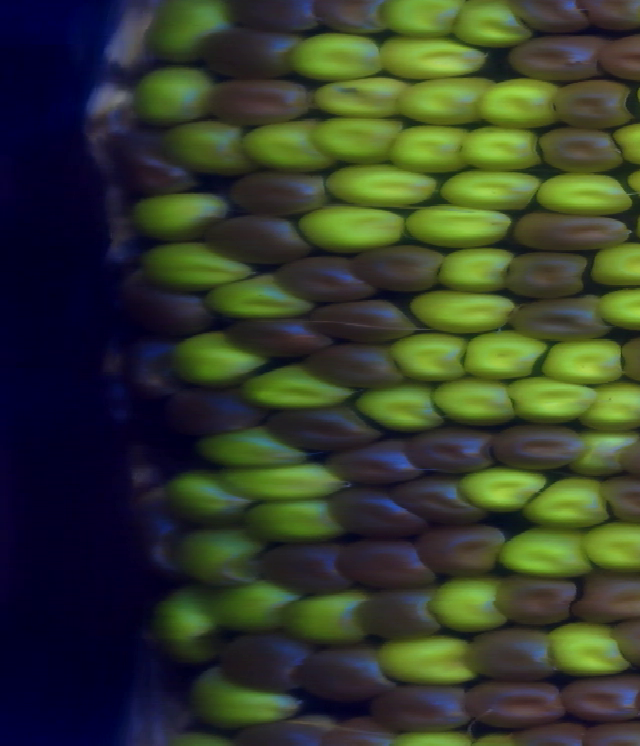fluorescent: (131, 54, 218, 129), (194, 670, 309, 726), (173, 326, 275, 386), (145, 1, 238, 65), (501, 526, 611, 580), (176, 528, 271, 585), (324, 161, 443, 206), (236, 364, 363, 406), (356, 380, 451, 436), (284, 593, 384, 646), (142, 589, 224, 653), (528, 470, 615, 530), (133, 191, 237, 241), (189, 271, 311, 313), (401, 72, 499, 124), (160, 115, 251, 171), (286, 26, 382, 79), (244, 120, 345, 170), (502, 375, 601, 425), (546, 622, 636, 676), (456, 466, 560, 512), (295, 204, 403, 248), (465, 331, 556, 383), (139, 241, 246, 285), (385, 327, 475, 379), (166, 468, 254, 521), (535, 170, 636, 216), (378, 637, 481, 682), (413, 288, 515, 333), (244, 495, 348, 539), (375, 36, 486, 76), (544, 339, 631, 390), (401, 206, 511, 246), (431, 577, 507, 634), (451, 1, 541, 49), (231, 460, 344, 498), (204, 581, 298, 626), (434, 377, 521, 425), (436, 171, 543, 210), (192, 429, 310, 464), (315, 115, 403, 161), (314, 76, 416, 115), (566, 425, 640, 476), (485, 79, 560, 129), (386, 124, 471, 168), (378, 1, 474, 39), (462, 128, 549, 169), (440, 247, 521, 289), (585, 379, 640, 431), (585, 522, 640, 567), (589, 244, 640, 292), (602, 280, 640, 337)
nonfluorescent: (197, 213, 328, 263), (122, 268, 216, 336), (336, 534, 448, 588), (201, 25, 313, 78), (297, 640, 394, 701), (461, 675, 570, 728), (273, 251, 378, 305), (213, 633, 311, 688), (371, 679, 474, 731), (500, 36, 609, 84), (468, 628, 562, 683), (268, 404, 380, 450), (258, 536, 355, 589), (386, 480, 491, 528), (110, 132, 198, 188), (162, 386, 266, 433), (227, 168, 338, 212), (332, 484, 423, 537), (418, 525, 507, 578), (307, 343, 411, 386), (492, 573, 578, 624), (307, 297, 413, 338), (208, 81, 319, 120), (539, 125, 628, 173), (515, 213, 627, 251), (354, 248, 453, 290), (331, 441, 421, 486), (493, 427, 584, 471), (555, 673, 640, 719), (357, 590, 443, 635), (505, 250, 592, 294), (408, 428, 493, 473), (231, 312, 323, 353), (559, 78, 630, 130), (570, 571, 640, 623), (511, 302, 610, 338), (223, 1, 328, 33), (237, 717, 348, 746), (514, 1, 600, 35), (314, 1, 392, 38), (598, 32, 640, 84), (322, 717, 395, 746), (581, 1, 640, 36), (598, 478, 640, 523), (575, 718, 640, 746), (509, 723, 586, 746), (608, 613, 640, 667)
